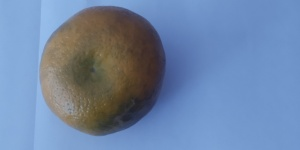BAD: (38, 4, 166, 135)
